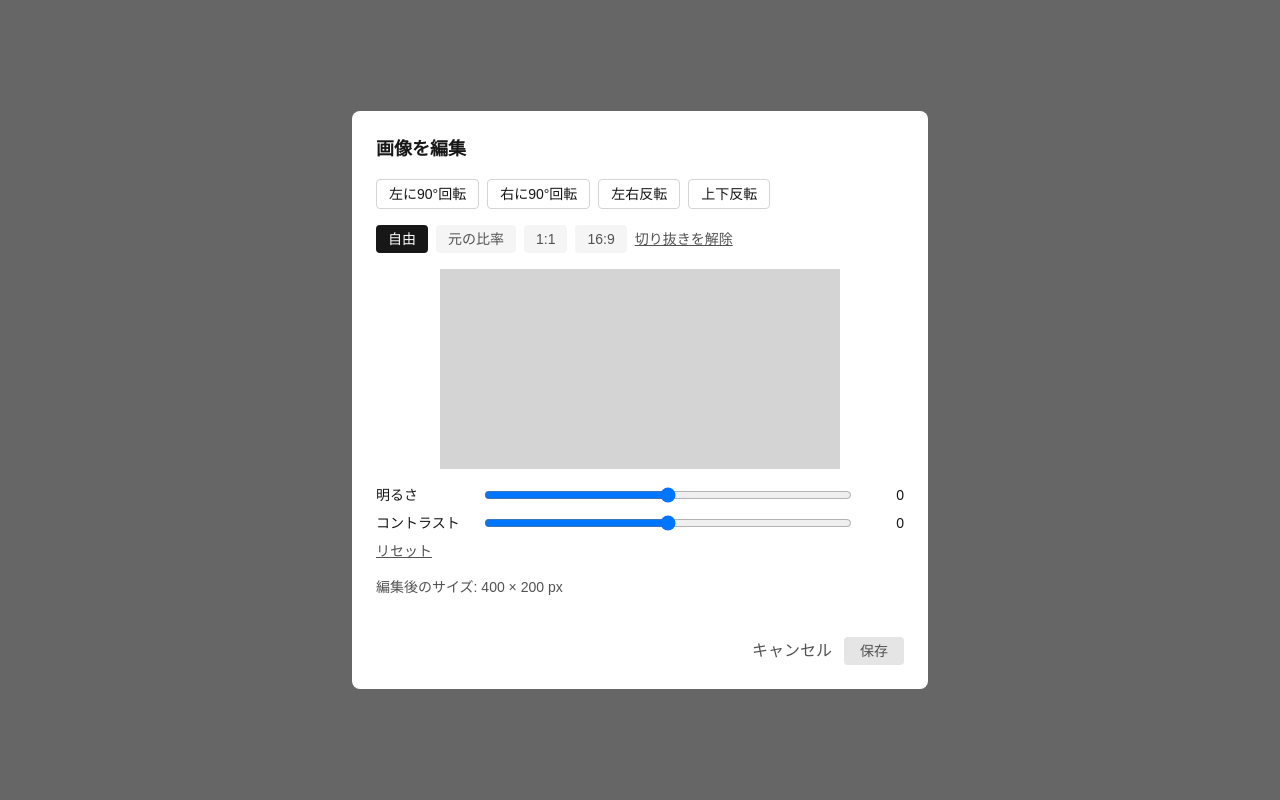
ImageEditDialog 切り抜き(issue #1655) › 1:1 を選ぶと、中央の正方形の範囲になる
The image size is (1280, 800).
Click the button "1:1" at (546, 239), box [524, 225, 568, 253]
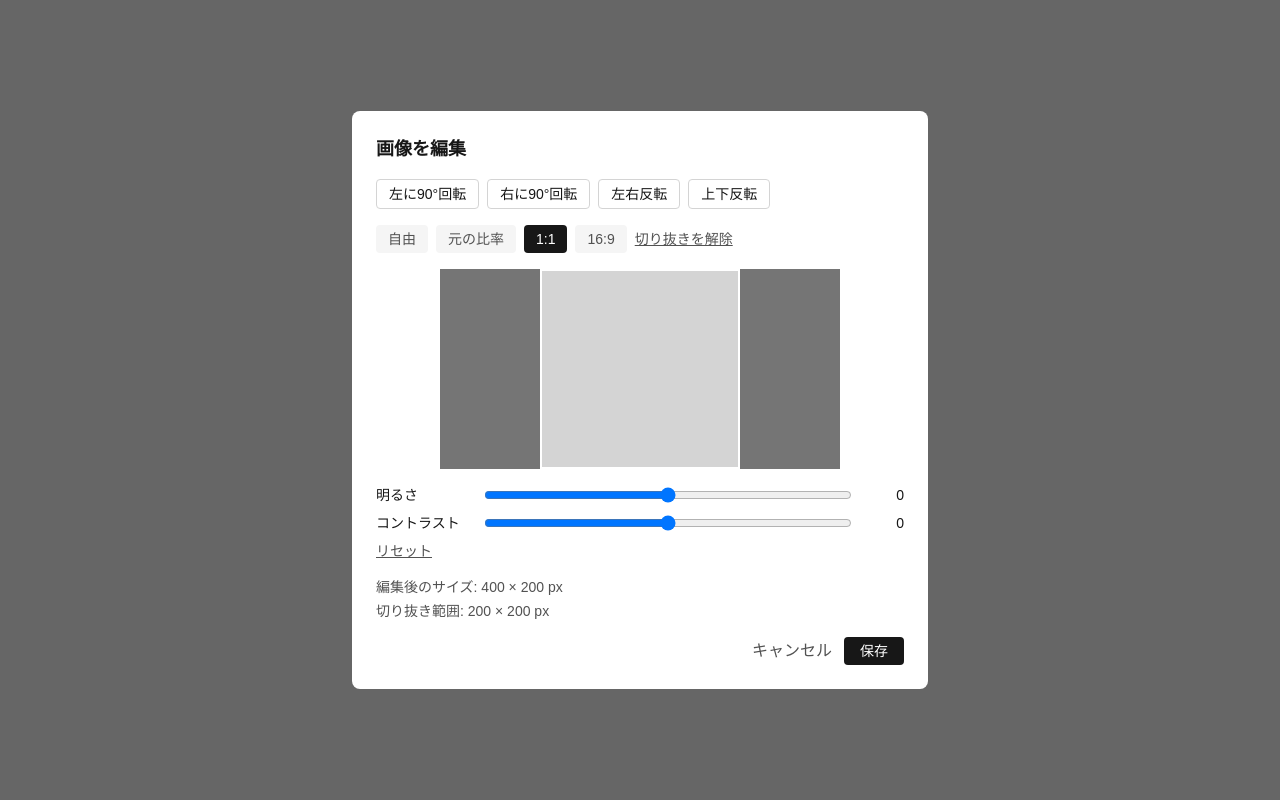
Expected: the text "切り抜き範囲: 200 × 200 px" is shown, [376, 603, 549, 619]
